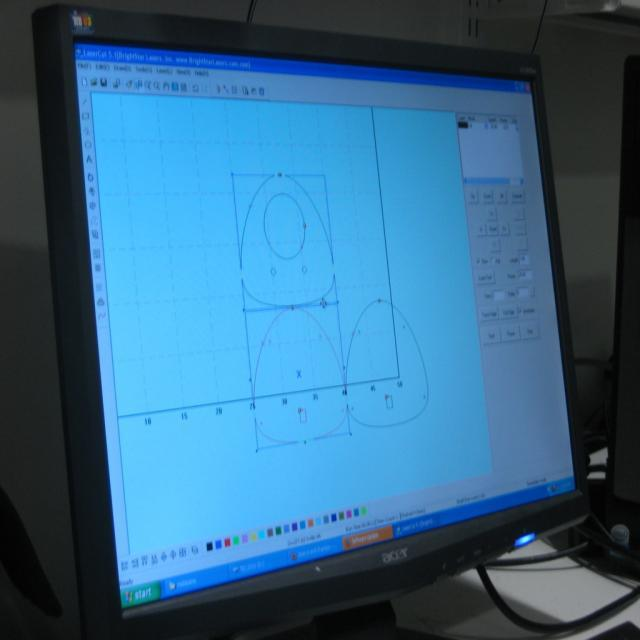others: (1, 2, 603, 631)
